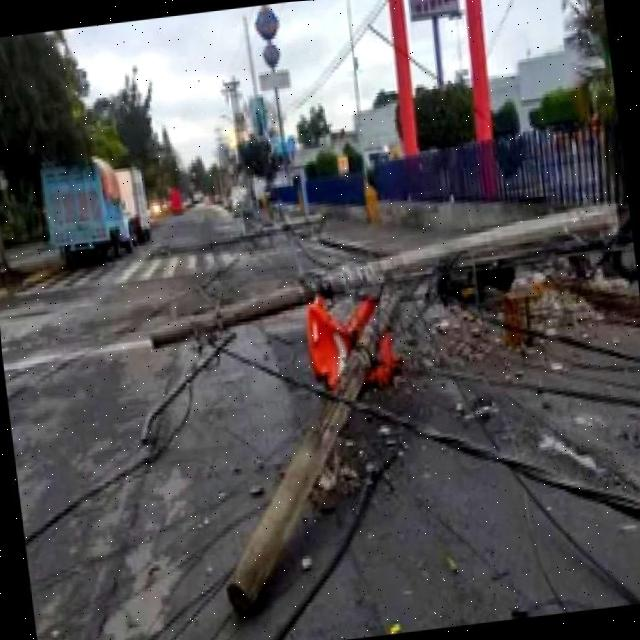Broken Pole: (149, 196, 619, 610)
